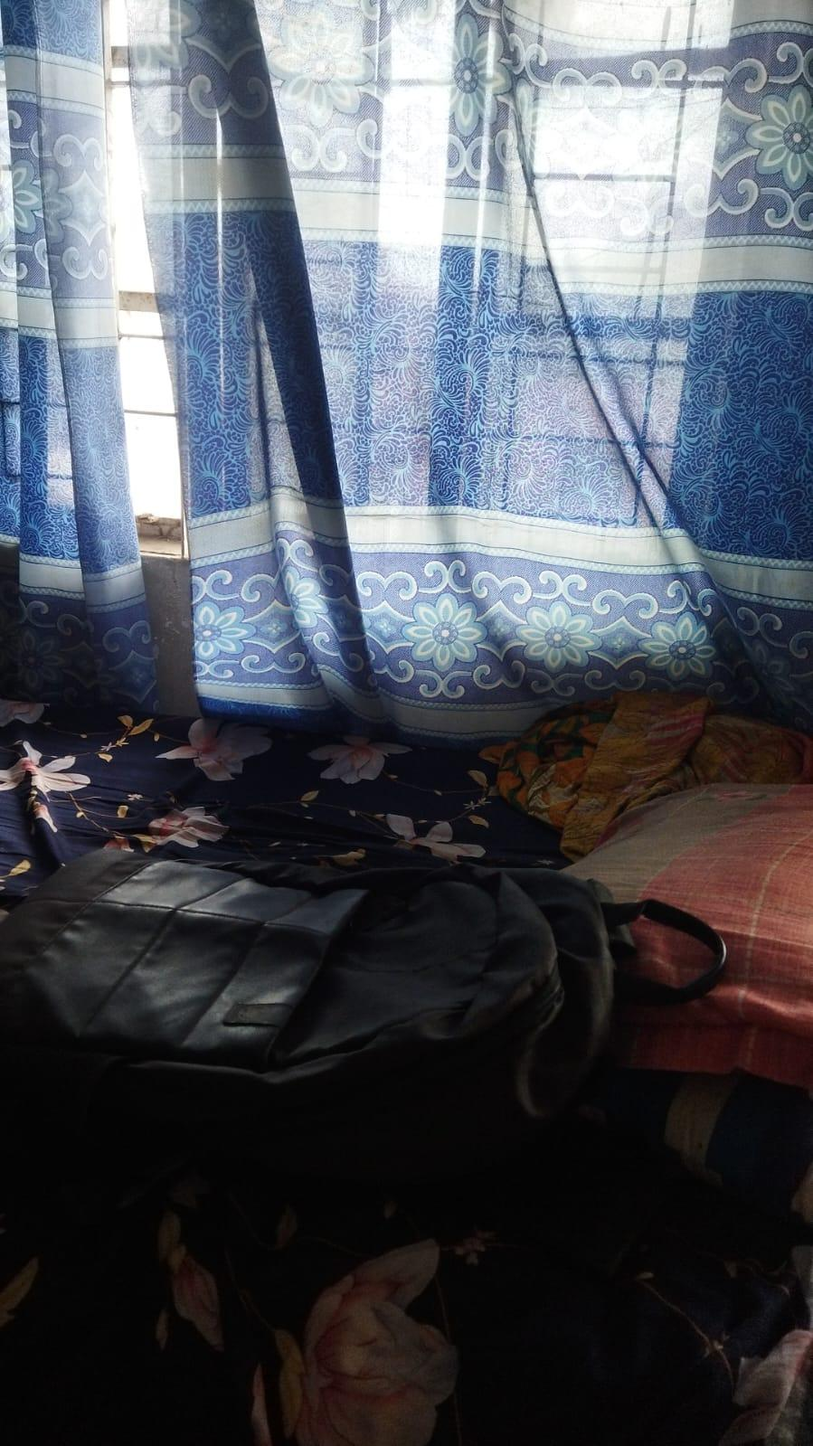Bag: (50, 808, 607, 1127)
Pillow: (600, 735, 800, 1135)
